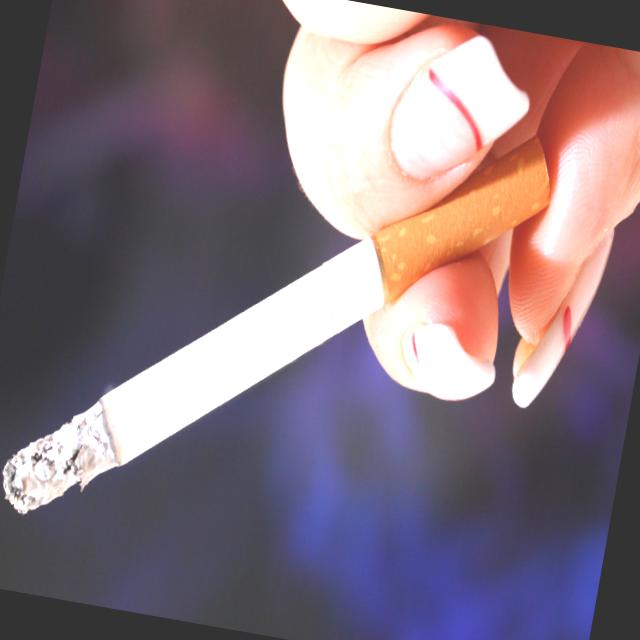cigarette: (0, 51, 560, 639)
